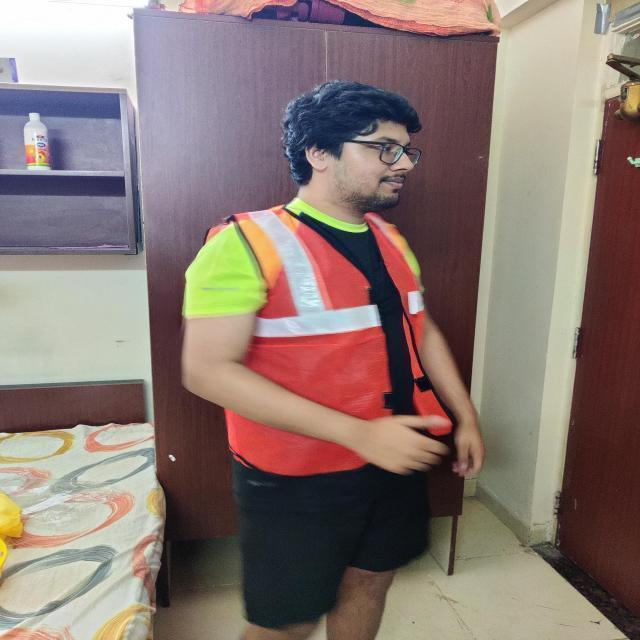no-helmet: (281, 73, 428, 174)
vest: (197, 204, 458, 482)
